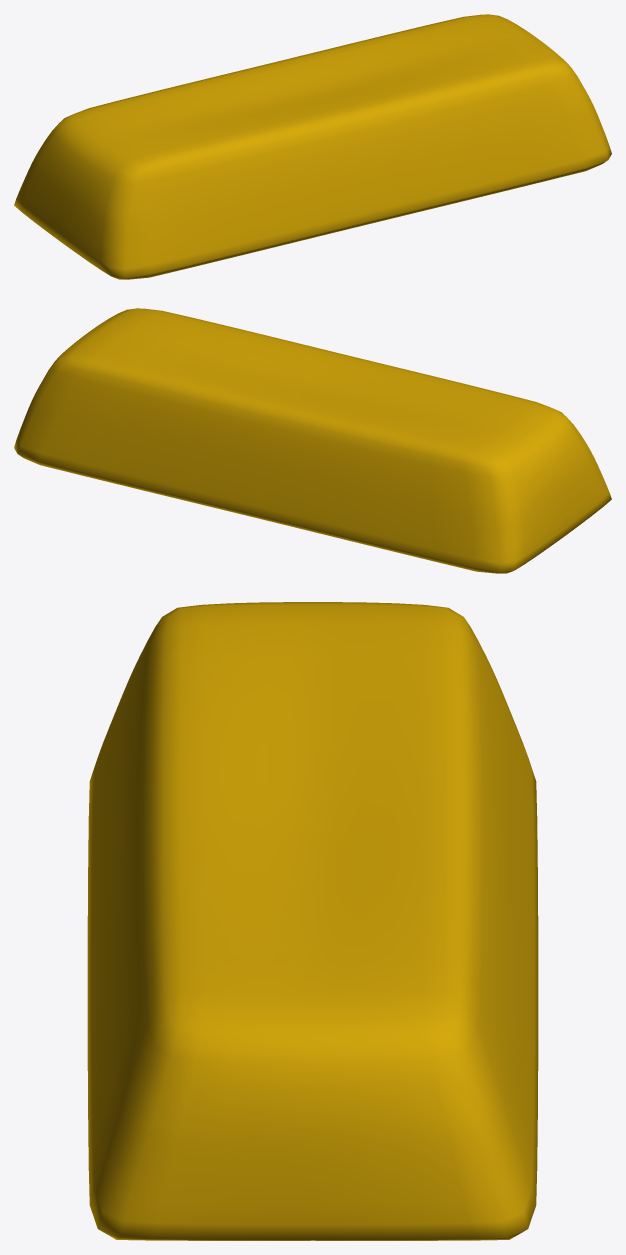
File: goldBar.fbx
3 views of the same model, one above another, from view 1: azimuth 30°, elevation 25°; view 2: azimuth 150°, elevation 25°; view 3: azimuth 270°, elevation 25° (orthographic). The views are drawn at different scales.
Parts seen in each view (by area): view 1: goldBar; view 2: goldBar; view 3: goldBar.
Part boxes in pixels (<box>): goldBar: <box>14,14,611,279</box>; goldBar: <box>14,308,611,573</box>; goldBar: <box>87,602,538,1240</box>.
Bounding box in the file's own units: 508 × 95.01 × 196.
